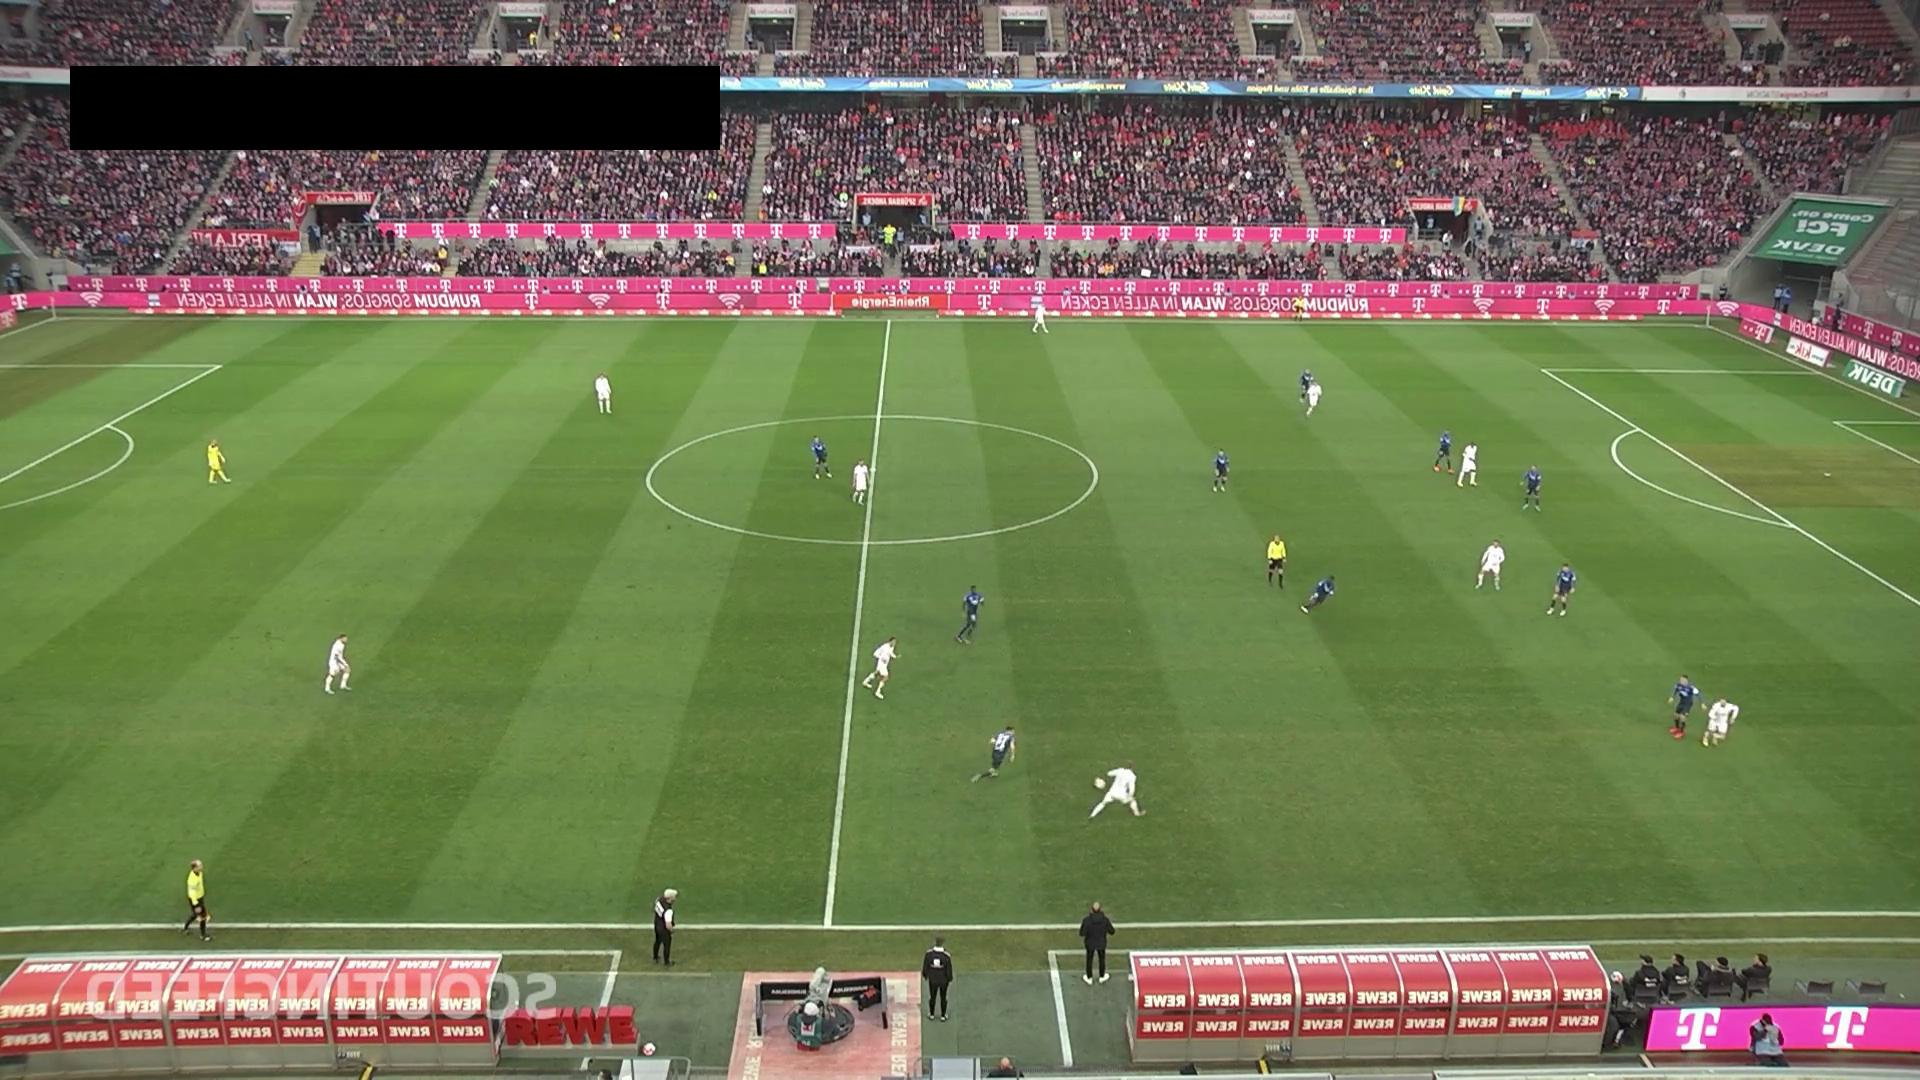ball: (1092, 775, 1108, 791)
goalkeeper: (206, 437, 231, 484)
player: (1088, 759, 1145, 819), (969, 722, 1017, 786), (1666, 674, 1707, 741), (863, 635, 900, 699), (955, 584, 986, 646), (1700, 698, 1738, 747), (1545, 561, 1577, 617), (324, 632, 352, 695), (1475, 539, 1506, 592), (1298, 574, 1336, 614), (1520, 464, 1543, 513), (1456, 441, 1479, 488), (810, 434, 832, 479), (1433, 429, 1454, 473), (851, 458, 869, 505), (1212, 447, 1230, 493), (1030, 294, 1050, 335), (594, 372, 613, 414), (1304, 376, 1322, 418), (1297, 368, 1315, 404)
referee: (180, 859, 212, 941), (1266, 533, 1287, 588), (1292, 293, 1305, 323)
